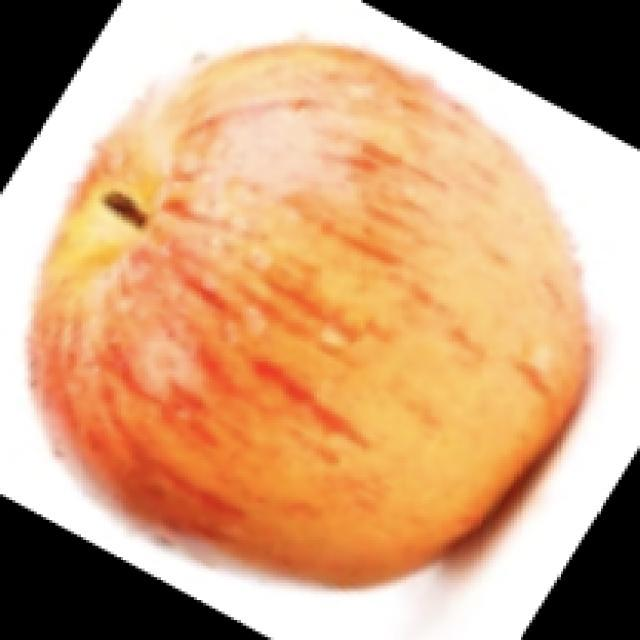Fresh Apple: (46, 59, 602, 584)
